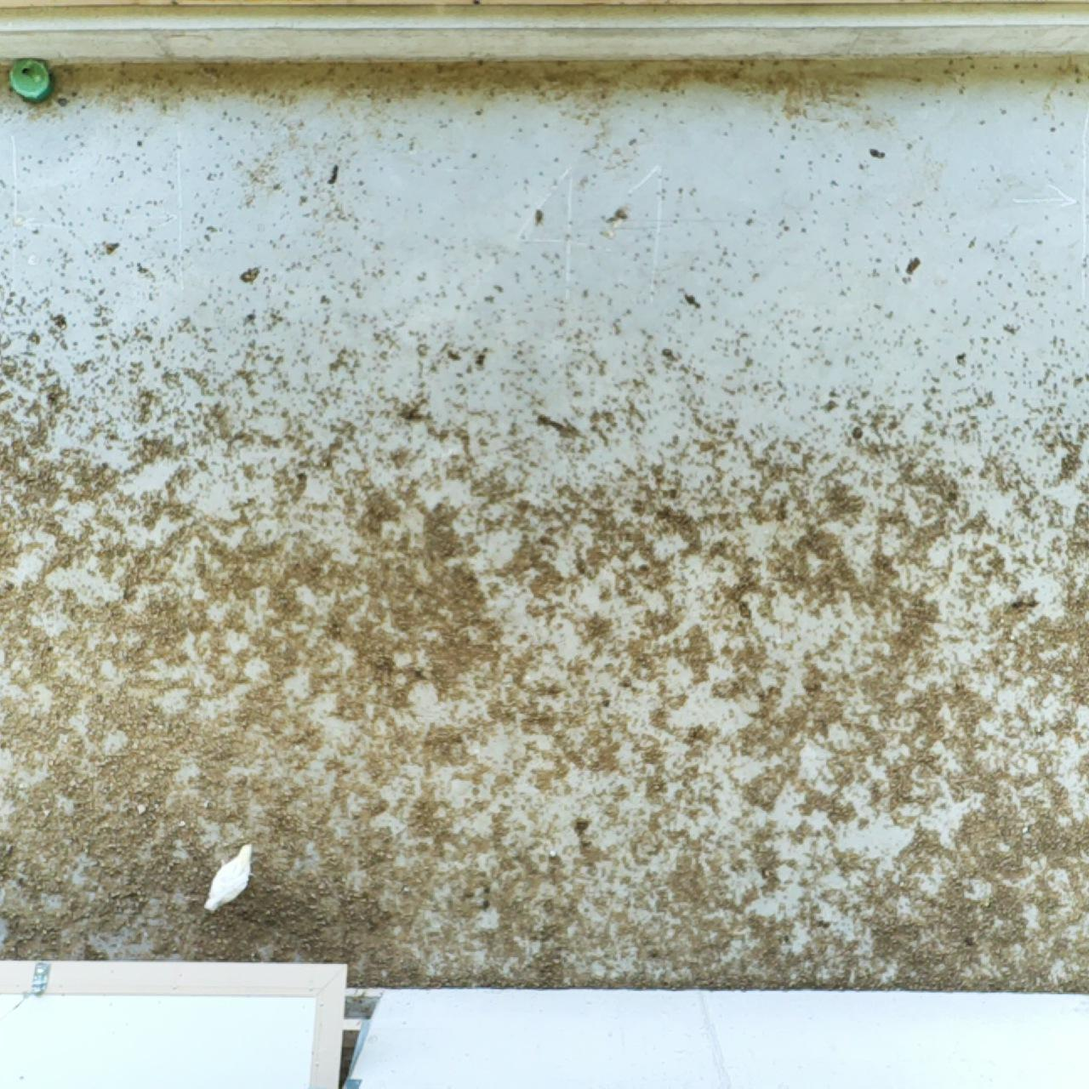chicken: (198, 836, 260, 917)
